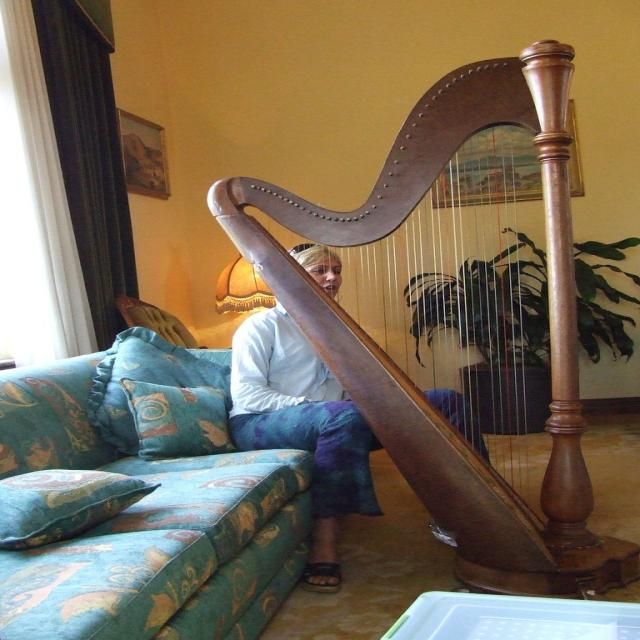harp: (207, 36, 639, 607)
